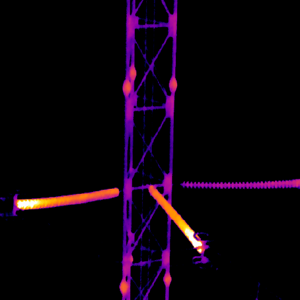insulator: (147, 182, 203, 254), (15, 185, 119, 211), (179, 177, 300, 189)
